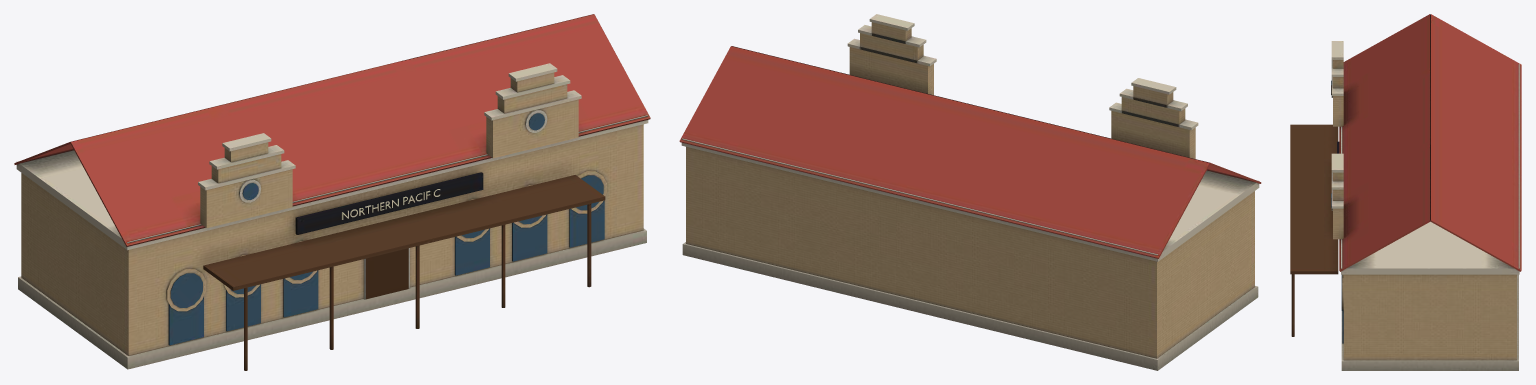
Rendered from billings_depot.glb.
3 views of the same model, side by side, from view 1: azimuth 30°, elevation 25°; view 2: azimuth 150°, elevation 25°; view 3: azimuth 270°, elevation 25° (orthographic). The views are drawn at different scales.
Parts seen in each view (by area): view 1: billings_depot; view 2: billings_depot; view 3: billings_depot.
Part boxes in pixels (<box>): billings_depot: <box>14,14,650,370</box>; billings_depot: <box>679,14,1261,370</box>; billings_depot: <box>1290,14,1521,370</box>.
Size of the model in its own units: 36.6 by 13.5 by 17.33.
1 material, 1 textured.
